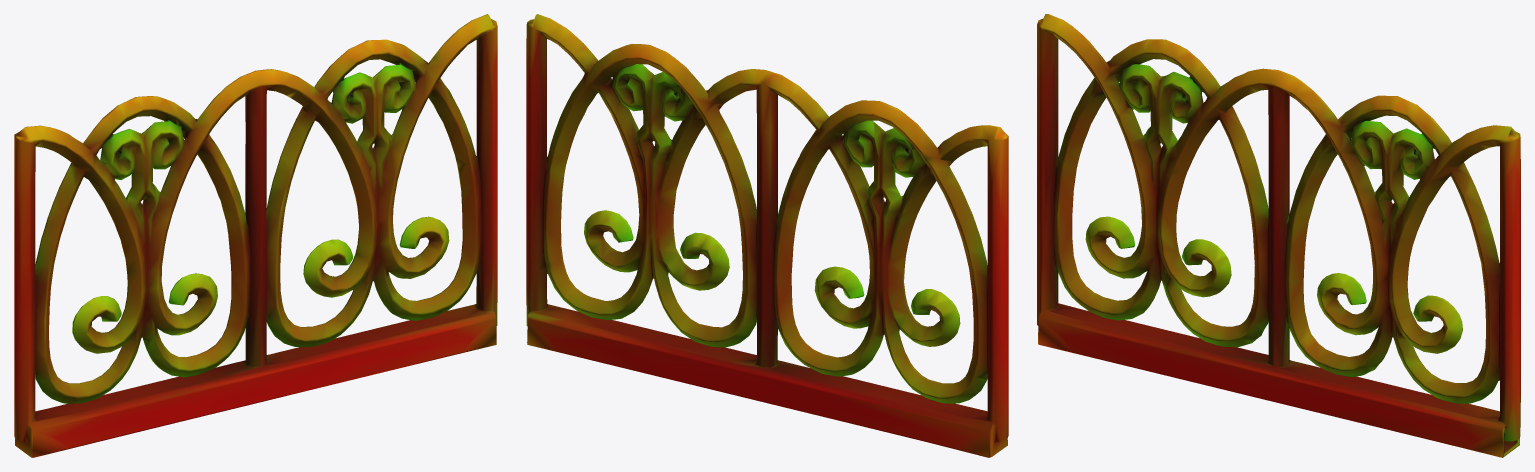
Rendered from FenceShort.fbx.
3 renders of one model, left to right at view 1: azimuth 30°, elevation 25°; view 2: azimuth 150°, elevation 25°; view 3: azimuth 330°, elevation 25°, orthographic.
Parts seen in each view (by area): view 1: transform1; view 2: transform1; view 3: transform1.
Part boxes in pixels (left/top/right/bottom): transform1: left=14, top=14, right=497, bottom=457; transform1: left=526, top=14, right=1008, bottom=457; transform1: left=1037, top=14, right=1520, bottom=457.
Bounding box in the file's own units: 104 × 7.07 × 67.24.
